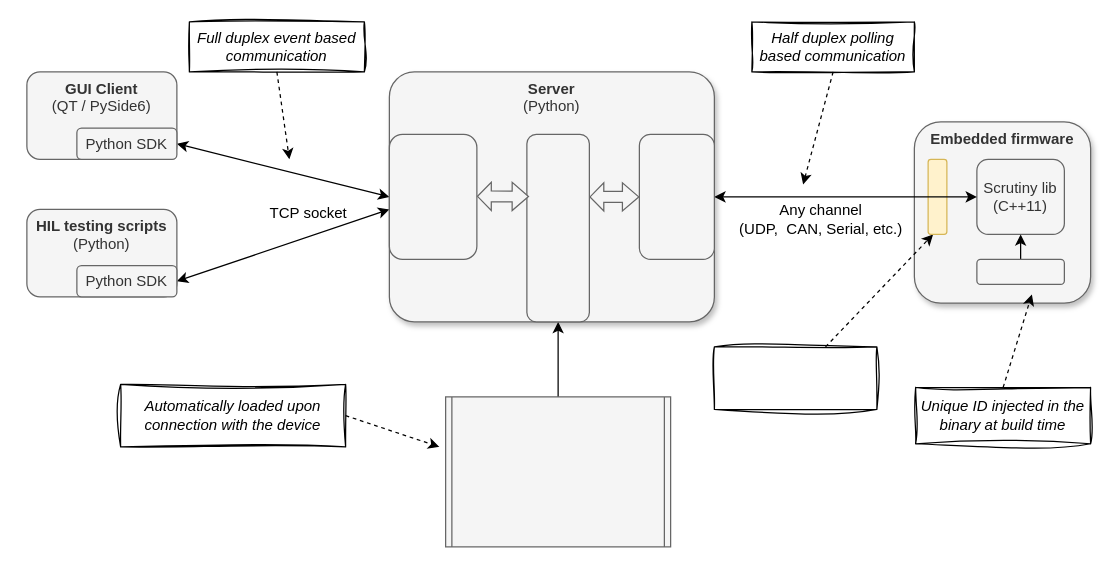
The diagram is 1120 pixels wide and 569 high, and some of its shapes have lost their labels. Each missing label, with the centre of its shape:
"Device Handler" goes at pixel 676 196.
"Firmware Description (file.sfd) Firmware ID Debug symbols Aliases Metadata" goes at pixel 557 471.
"Firmware ID" goes at pixel 1020 271.
"Logic" goes at pixel 557 227.
"Multiclient socket API" goes at pixel 432 196.
"Small IO stream adapter to be written" goes at pixel 795 377.
